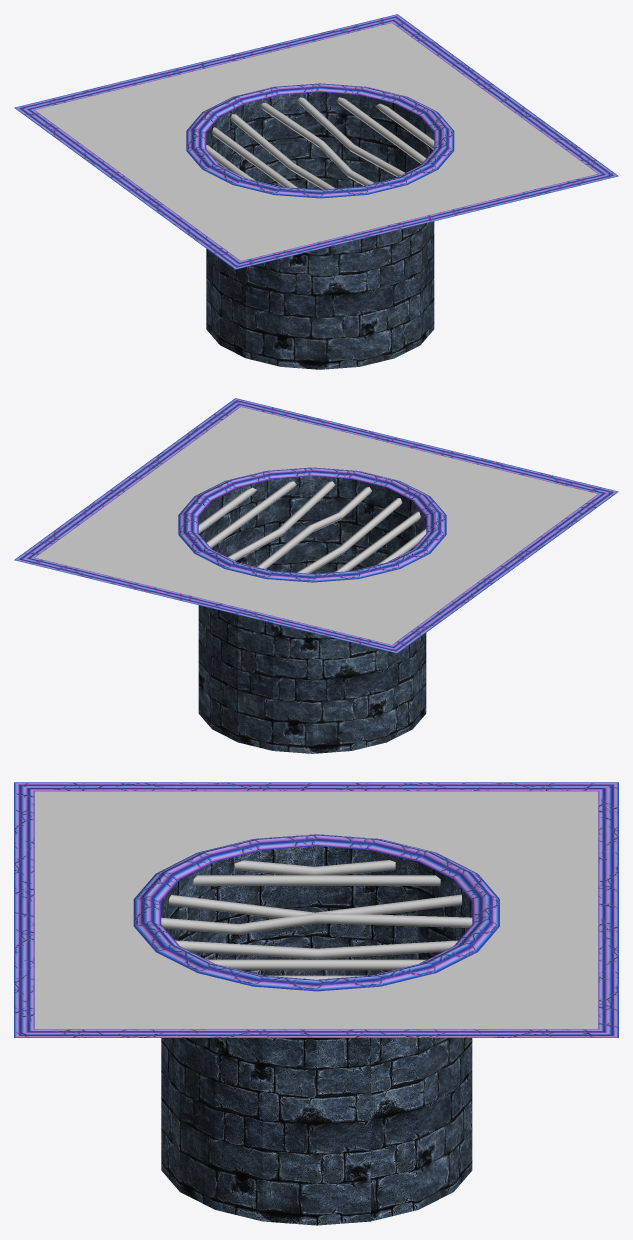
Rendered from Floor2Update.FBX.
3 renders of one model, top to bottom at view 1: azimuth 30°, elevation 25°; view 2: azimuth 150°, elevation 25°; view 3: azimuth 270°, elevation 25°, orthographic. The views are drawn at different scales.
Parts seen in each view (by area): view 1: Floor05; view 2: Floor05; view 3: Floor05.
Boxes of the visible parts, left/top/right/bottom form: Floor05: left=14, top=14, right=618, bottom=369; Floor05: left=14, top=398, right=618, bottom=753; Floor05: left=14, top=782, right=618, bottom=1225.
Bounding box in the file's own units: 91.85 × 41.98 × 91.85.
